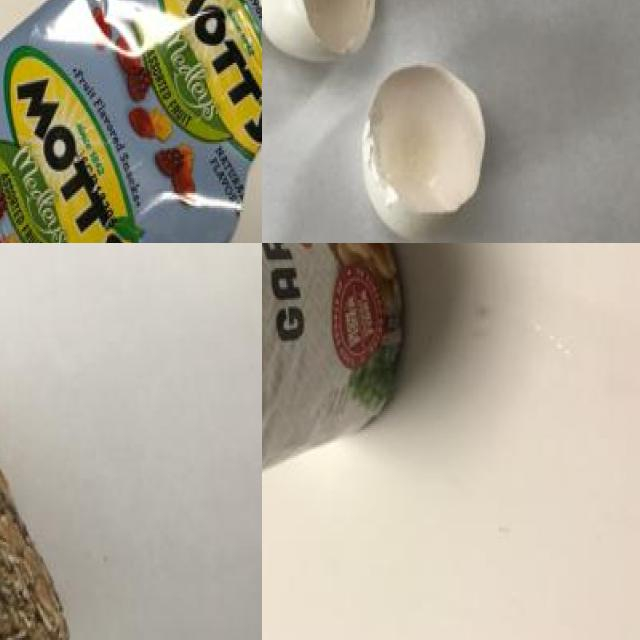compost: (262, 0, 507, 227), (0, 349, 75, 640)
plastic: (262, 243, 423, 569)
trash: (0, 0, 262, 243)
